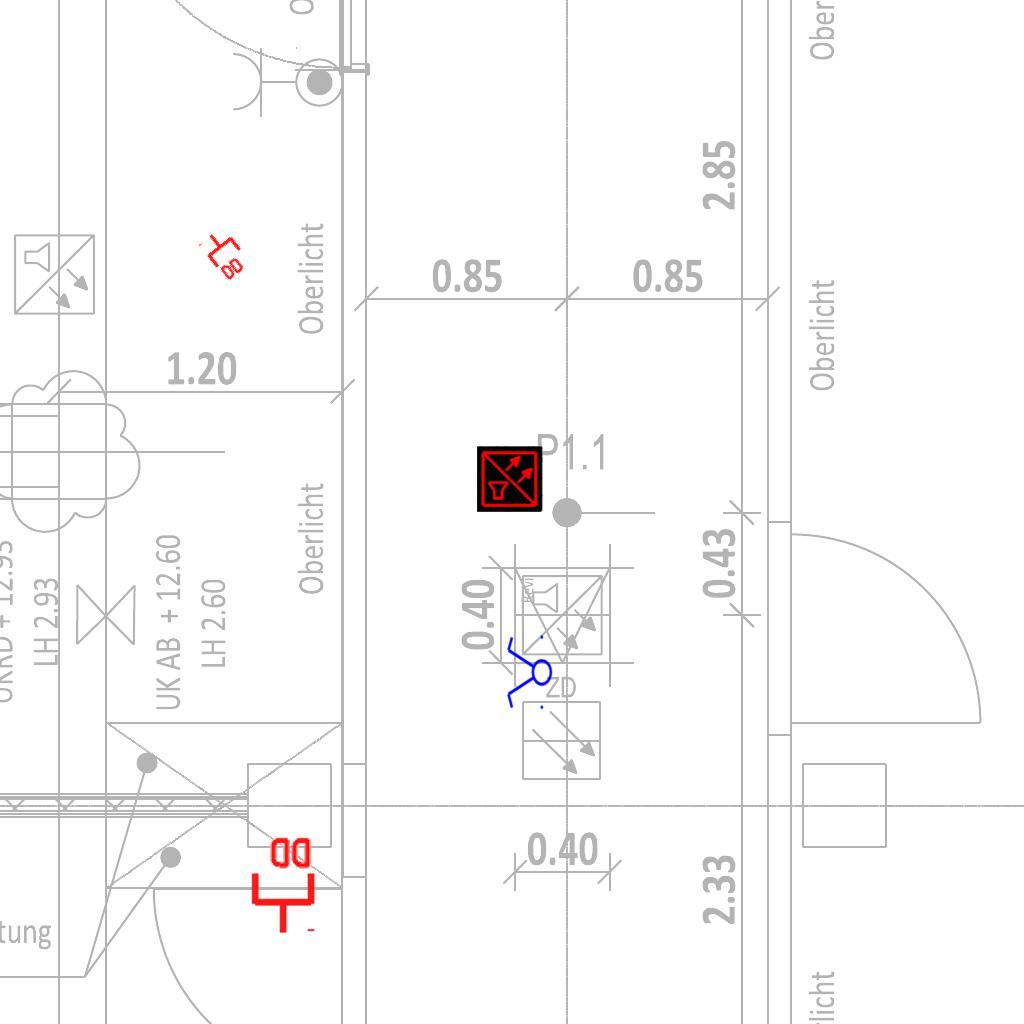Datenanschluss_zweifach: (247, 833, 316, 936), (196, 222, 256, 285)
OKW_Multisensormelder_(Kombination_optischer_Rauch-Kahlenmonoxid_Waerme-Melder): (477, 446, 543, 512)
Serienschalter: (505, 631, 553, 715)
